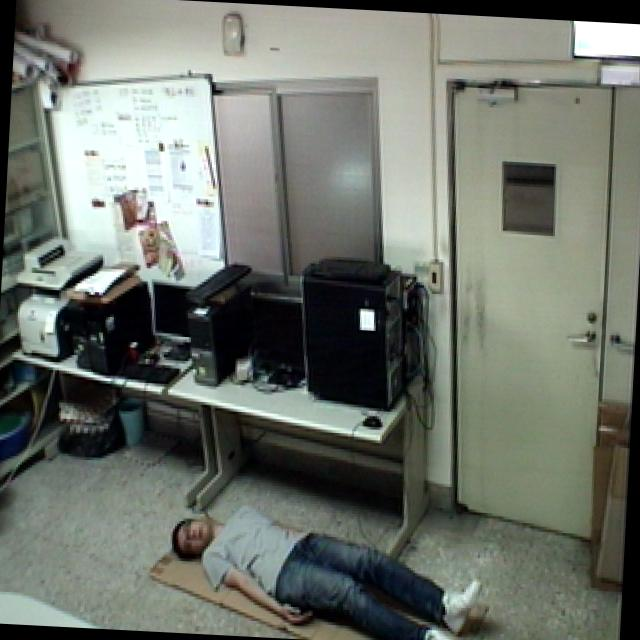lie: (165, 498, 492, 640)
